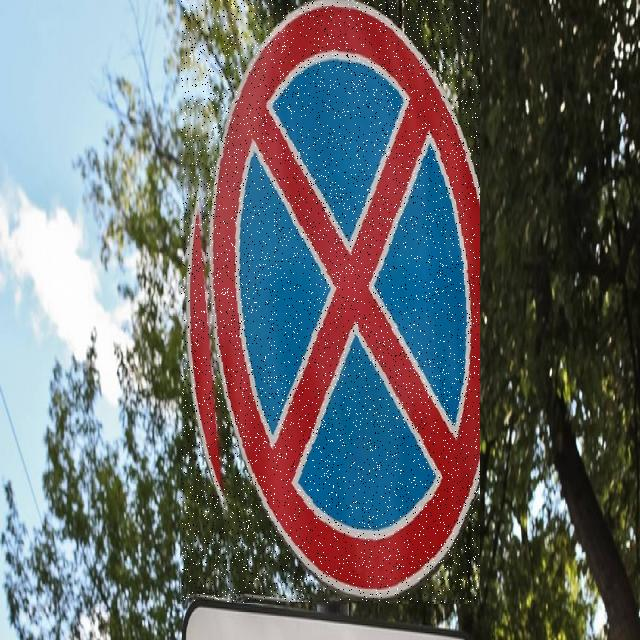no stopping: (181, 0, 480, 603)
